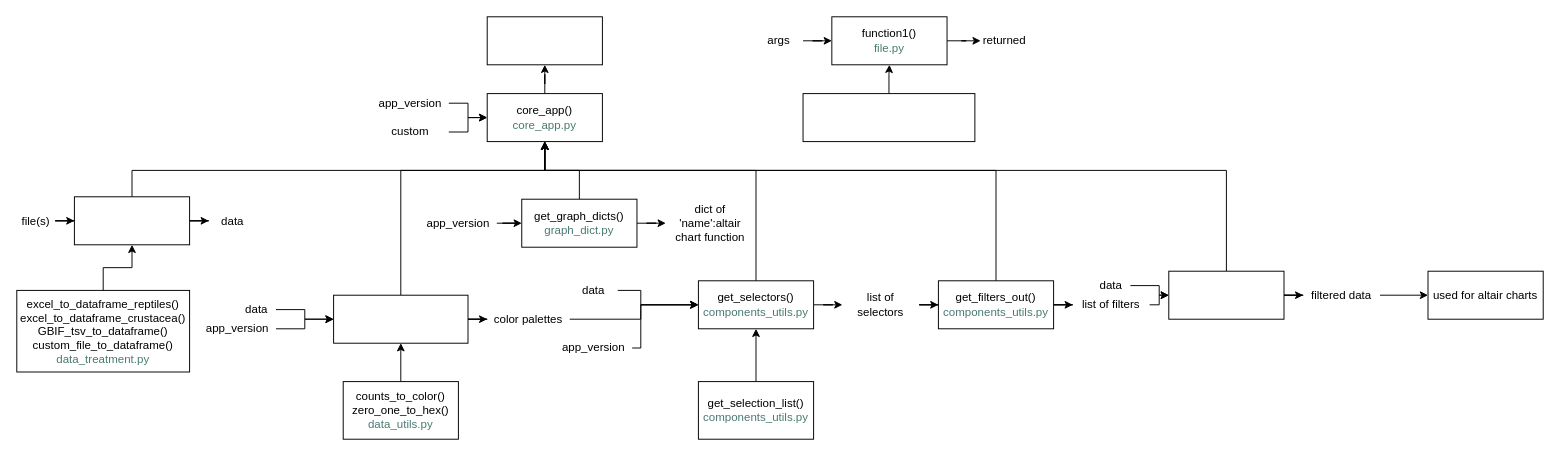
Image size: 1560x456. Some labels were removed from this diagram. Here are the shapes that lost their labels. From the top down, the box of each, then its label:
(486, 16, 602, 65): main() streamlit_app.py
(802, 93, 975, 142): function_used_in_function1() file_utils.py
(73, 196, 190, 245): file_to_dataframe() data_treatment.py
(1168, 270, 1284, 319): filter_data() data_utils.py
(333, 294, 468, 343): create_color_palettes() data_utils.py
